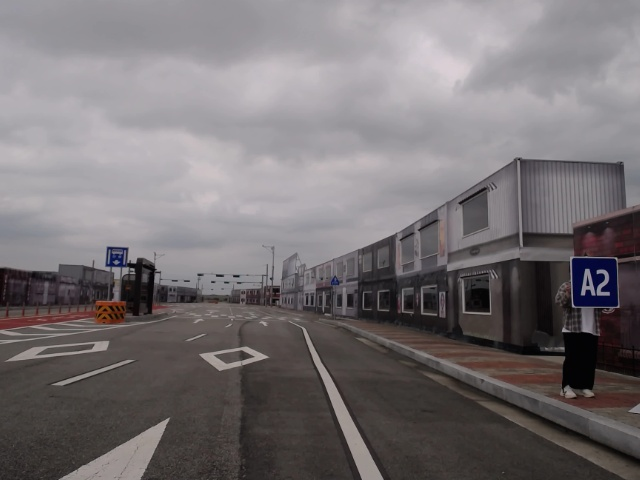delivery_a2: (570, 256, 620, 308)
